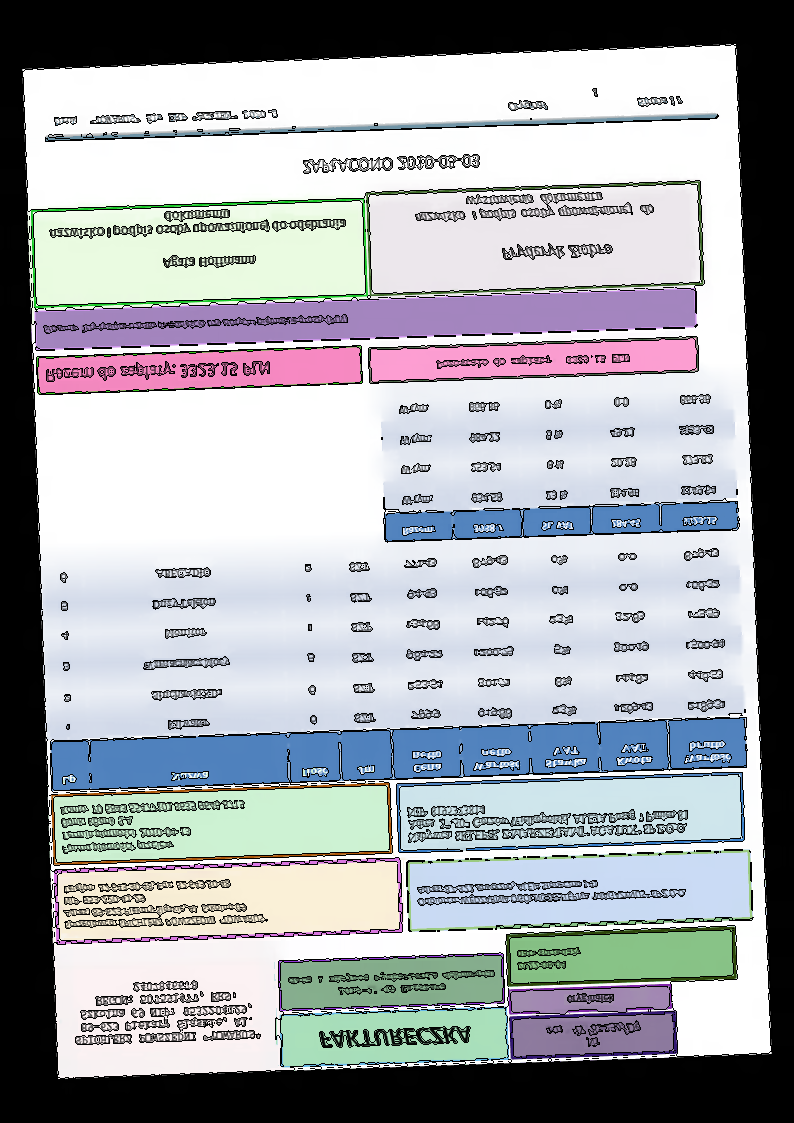Table: (43, 534, 746, 792), (378, 378, 740, 544)
TextBox: (406, 796, 692, 845), (71, 977, 262, 1047), (61, 875, 271, 931), (48, 204, 347, 243), (58, 797, 248, 857), (414, 875, 689, 910), (413, 188, 655, 225), (41, 311, 349, 337), (285, 968, 497, 1001), (44, 357, 271, 384), (507, 85, 685, 112), (301, 152, 482, 176), (53, 108, 278, 127), (435, 350, 631, 371), (318, 1024, 472, 1050), (544, 1019, 644, 1050), (499, 239, 614, 264), (515, 945, 582, 972), (161, 252, 256, 270), (565, 990, 616, 1007)
